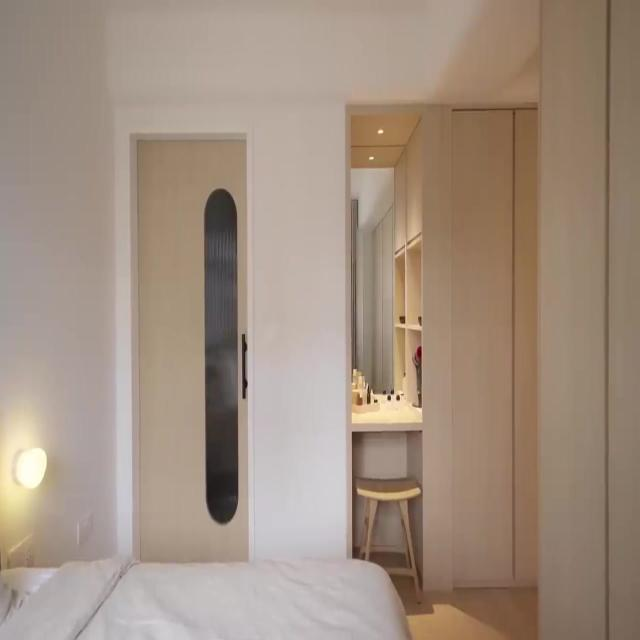door: (136, 134, 250, 563)
obstacle: (0, 547, 413, 640), (357, 473, 423, 601)
